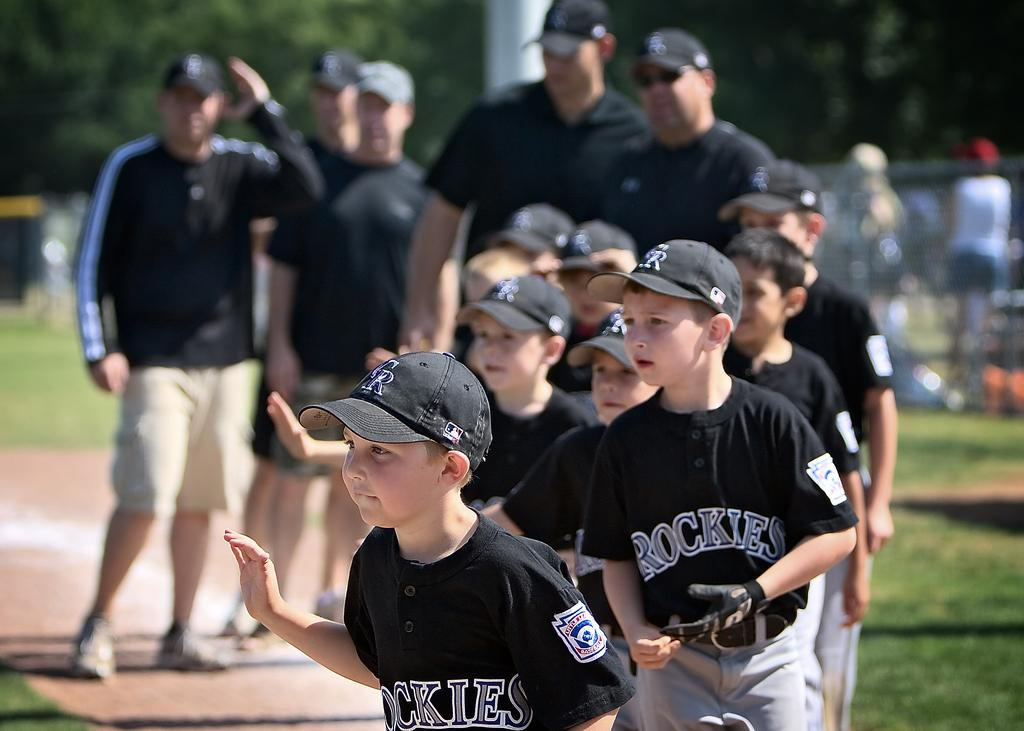Hat: (293, 354, 495, 482), (584, 234, 742, 338), (456, 270, 577, 338), (715, 157, 819, 222), (488, 202, 576, 263), (518, 0, 610, 57), (623, 23, 713, 74), (583, 304, 634, 371), (347, 54, 414, 102), (160, 53, 228, 97), (570, 216, 634, 260), (304, 46, 358, 96), (950, 134, 998, 168)
